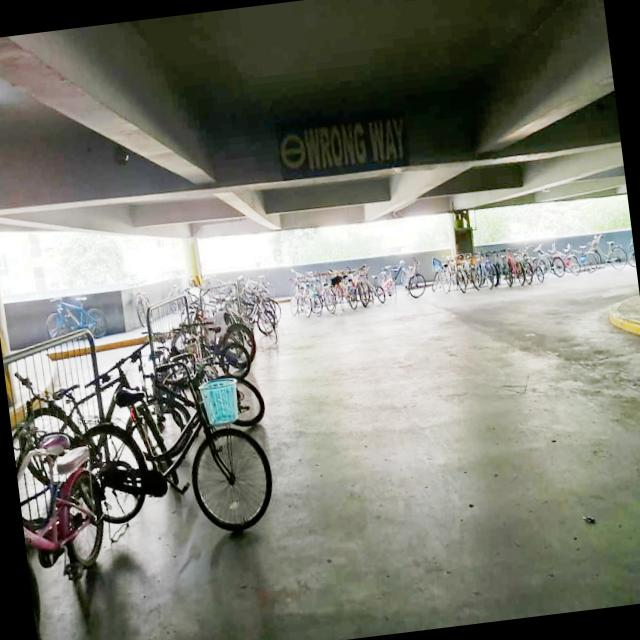bike: (61, 344, 278, 548), (11, 336, 180, 505), (115, 327, 271, 464), (40, 290, 109, 343), (284, 274, 314, 320), (129, 278, 156, 328), (400, 256, 428, 296), (428, 254, 453, 294), (164, 277, 188, 314)
